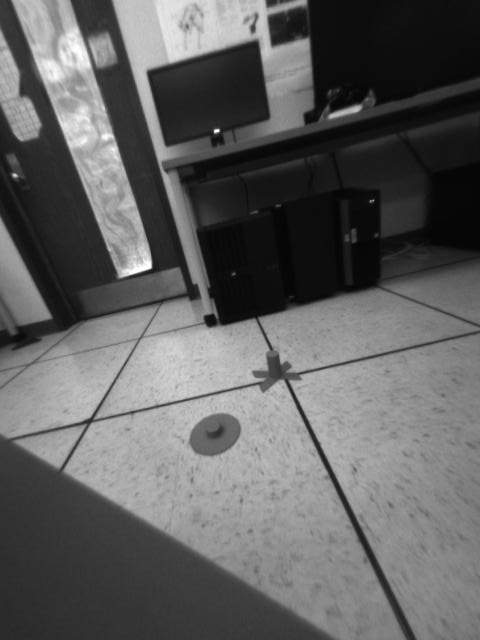X: (251, 351, 303, 394)
